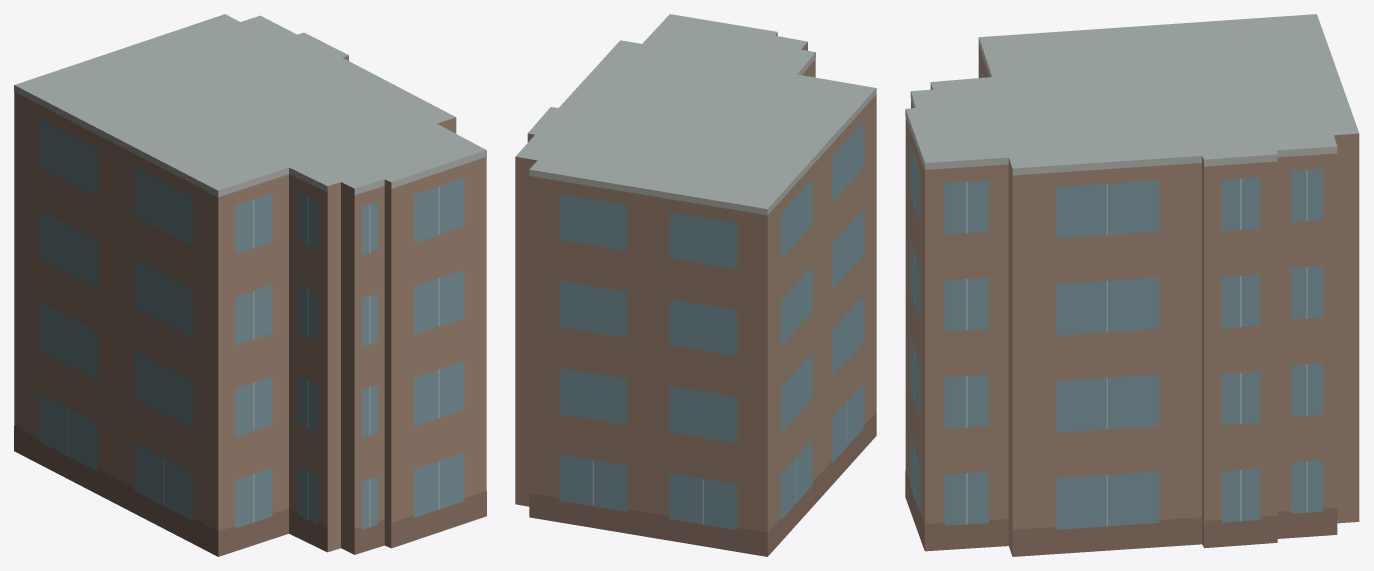
Rendered from survey-upis-33020657.glb.
The picture shows the model from 3 angles, left to right: view 1: azimuth 30°, elevation 25°; view 2: azimuth 150°, elevation 25°; view 3: azimuth 270°, elevation 25°; orthographic projection. The views are drawn at different scales.
Parts seen in each view (by area): view 1: survey-upis-33020657.tmp; view 2: survey-upis-33020657.tmp; view 3: survey-upis-33020657.tmp.
Boxes of the visible parts, x1,y1,x2,y2 form: survey-upis-33020657.tmp: (14,14,486,556); survey-upis-33020657.tmp: (515,14,876,556); survey-upis-33020657.tmp: (905,14,1359,556).
Bounding box in the file's own units: 11.62 × 13.6 × 14.42.
